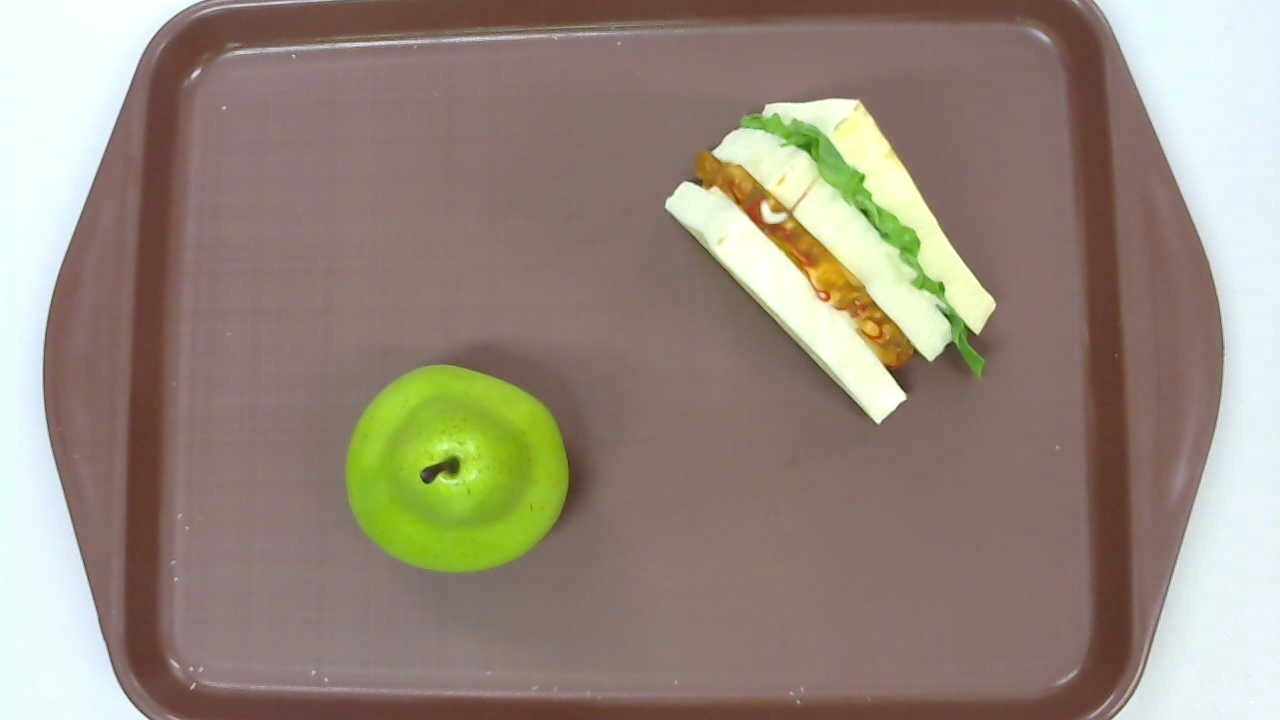green pear: (343, 362, 569, 572)
sandwich: (664, 98, 997, 427)
